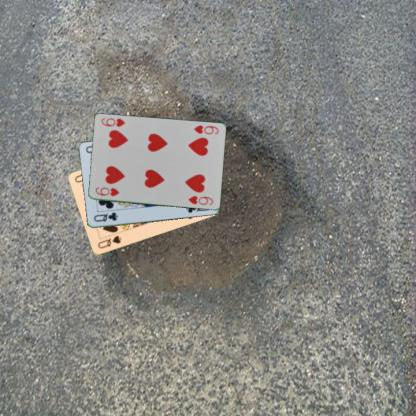6h: (191, 122, 220, 136), (93, 184, 120, 198)
Qc: (91, 210, 119, 223)
Qs: (96, 234, 122, 250)
